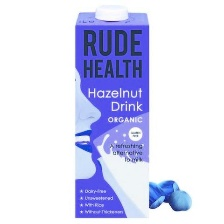carton: (73, 2, 151, 219)
